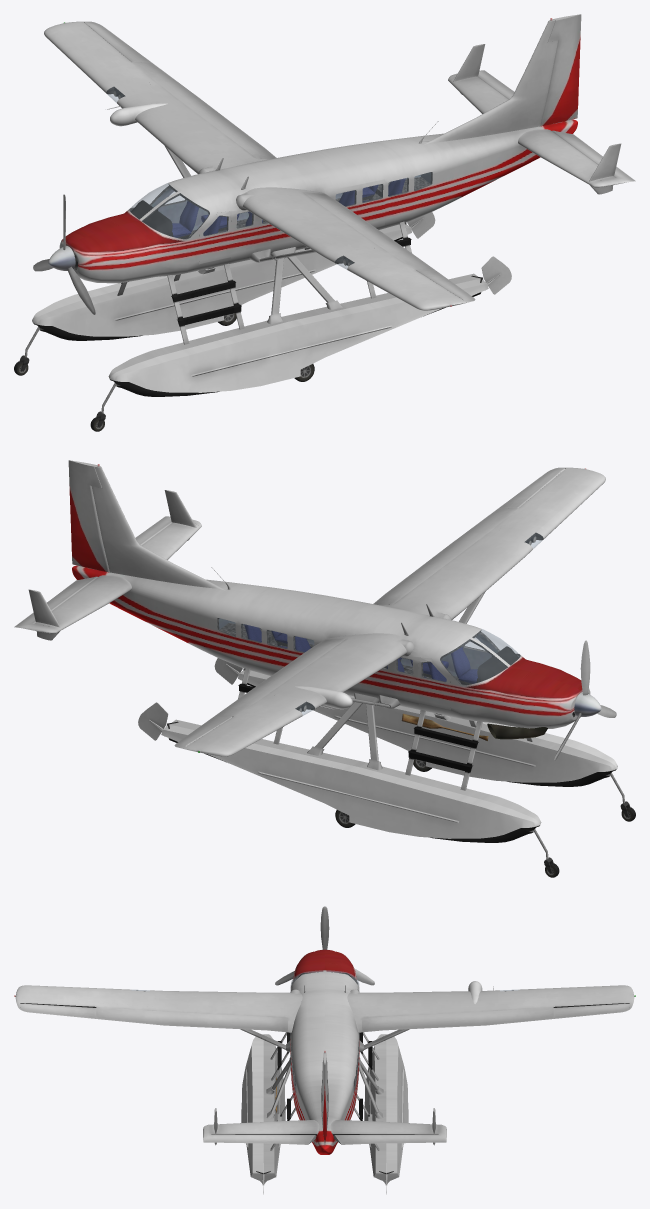
Rendered from cessna_208_amphibian.glb.
3 renders of one model, top to bottom at view 1: azimuth 30°, elevation 25°; view 2: azimuth 150°, elevation 25°; view 3: azimuth 270°, elevation 25°, orthographic. The views are drawn at different scales.
Parts seen in each view (by area): view 1: Object_27, Object_30, Object_29, Object_28, Object_31, Object_44, Object_18, Object_3, Object_34, Object_35, Object_25, Object_36; view 2: Object_27, Object_30, Object_29, Object_28, Object_31, Object_44, Object_18, Object_3, Object_35, Object_25, Object_34; view 3: Object_29, Object_27, Object_30, Object_28, Object_31, Object_36.
Part boxes in pixels (bbox=[...]): Object_27: bbox=[32, 14, 635, 396]; Object_30: bbox=[59, 19, 577, 283]; Object_29: bbox=[44, 21, 473, 310]; Object_28: bbox=[33, 22, 615, 386]; Object_31: bbox=[19, 22, 511, 427]; Object_44: bbox=[106, 87, 432, 269]; Object_18: bbox=[129, 172, 432, 239]; Object_3: bbox=[172, 178, 405, 239]; Object_34: bbox=[48, 246, 314, 381]; Object_35: bbox=[110, 89, 352, 266]; Object_25: bbox=[131, 200, 172, 236]; Object_36: bbox=[165, 146, 315, 262]; Object_27: bbox=[14, 460, 617, 842]; Object_30: bbox=[72, 465, 590, 728]; Object_29: bbox=[176, 467, 605, 756]; Object_28: bbox=[34, 468, 616, 832]; Object_31: bbox=[138, 468, 630, 873]; Object_44: bbox=[217, 533, 543, 715]; Object_18: bbox=[217, 618, 520, 685]; Object_3: bbox=[271, 630, 477, 685]; Object_35: bbox=[295, 535, 536, 712]; Object_25: bbox=[477, 646, 518, 682]; Object_34: bbox=[413, 692, 601, 771]; Object_29: bbox=[15, 985, 634, 1032]; Object_27: bbox=[15, 995, 634, 1185]; Object_30: bbox=[290, 949, 359, 1154]; Object_28: bbox=[20, 906, 629, 1135]; Object_31: bbox=[20, 986, 629, 1194]; Object_36: bbox=[240, 1029, 409, 1051].
Size of the model in its own units: 12.6 by 5.99 by 15.85.
Materials: 30 (27 with a texture image).
